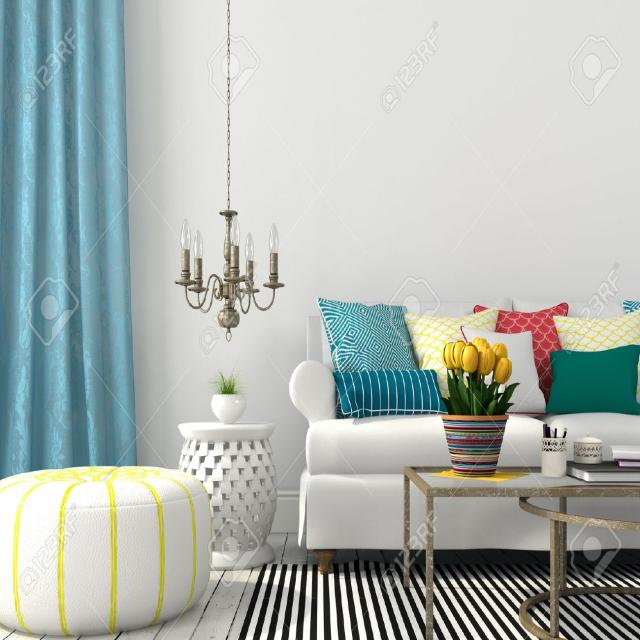white sofa: (288, 311, 621, 532)
